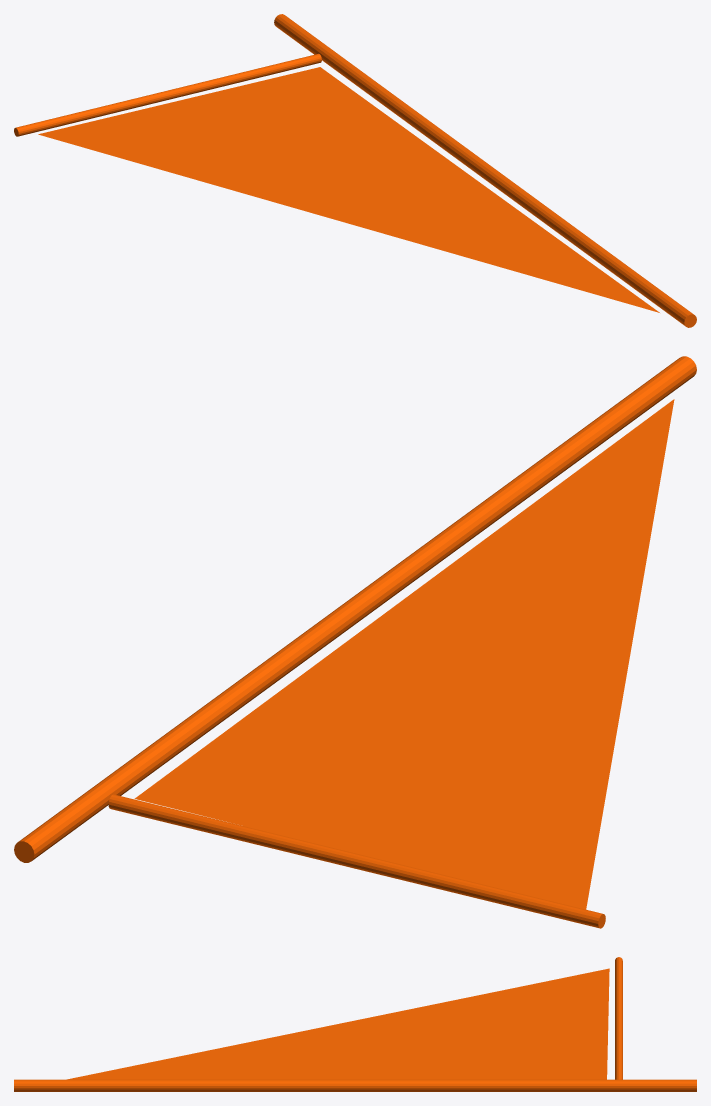
The model's file is sail.dae.
The picture shows the model from 3 angles, top to bottom: view 1: azimuth 30°, elevation 25°; view 2: azimuth 150°, elevation 25°; view 3: azimuth 270°, elevation 25°; orthographic projection. The views are drawn at different scales.
Parts seen in each view (by area): view 1: node; view 2: node; view 3: node.
Part boxes in pixels (<box>): node: <box>14,14,696,327</box>; node: <box>14,356,696,928</box>; node: <box>14,957,696,1091</box>.
Bounding box in the file's own units: 1.32 × 0.0526 × 2.95.
1 material, 1 textured.
